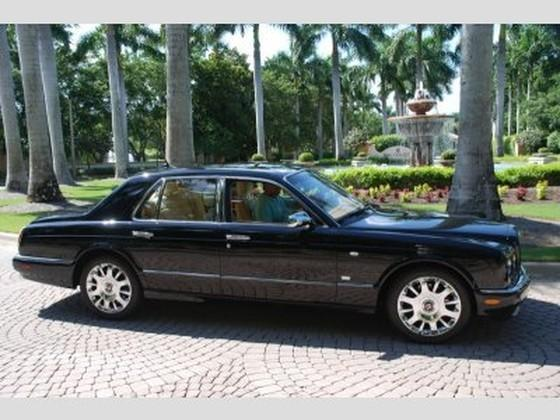Sedan: (11, 160, 531, 344)
